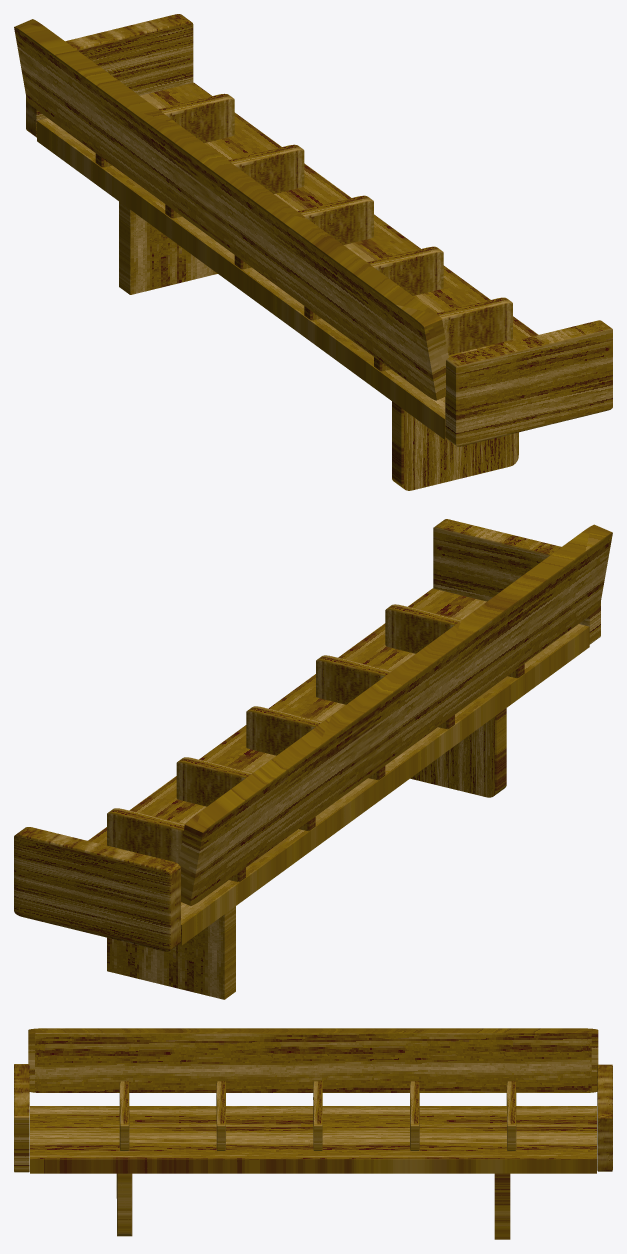
The model's file is bench.glb.
The picture shows the model from 3 angles, top to bottom: view 1: azimuth 30°, elevation 25°; view 2: azimuth 150°, elevation 25°; view 3: azimuth 270°, elevation 25°; orthographic projection. The views are drawn at different scales.
Parts seen in each view (by area): view 1: Cube.013, Cube.006, Cube.011, Cube.009, Cube.002, Cube.003, Cube.012, Cube.007, Cube.008, Cube.010; view 2: Cube.013, Cube.006, Cube.012, Cube.002, Cube.003, Cube.009, Cube.011, Cube.008, Cube.007, Cube.010; view 3: Cube.002, Cube.009, Cube.006, Cube.013, Cube.003, Cube.011, Cube.012, Cube.008, Cube.007, Cube.010.
Boxes of the visible parts, x1,y1,x2,y2 form: Cube.013: (17, 20, 448, 400); Cube.006: (14, 19, 447, 399); Cube.011: (445, 320, 612, 446); Cube.009: (37, 82, 446, 439); Cube.002: (37, 123, 538, 439); Cube.003: (95, 93, 443, 320); Cube.012: (26, 14, 193, 137); Cube.007: (392, 401, 518, 490); Cube.008: (119, 201, 217, 294); Cube.010: (374, 297, 512, 371); Cube.013: (178, 524, 612, 905); Cube.006: (179, 527, 602, 905); Cube.012: (14, 827, 180, 951); Cube.002: (182, 588, 589, 944); Cube.003: (107, 655, 454, 882); Cube.009: (88, 631, 588, 945); Cube.011: (433, 519, 600, 644); Cube.008: (107, 906, 235, 999); Cube.007: (410, 708, 506, 797); Cube.010: (385, 604, 524, 678); Cube.002: (30, 1106, 596, 1173); Cube.009: (30, 1106, 596, 1173); Cube.006: (28, 1028, 598, 1092); Cube.013: (28, 1028, 598, 1092); Cube.003: (216, 1081, 516, 1150); Cube.011: (14, 1064, 29, 1172); Cube.012: (597, 1064, 612, 1171); Cube.008: (494, 1173, 510, 1239); Cube.007: (116, 1173, 132, 1236); Cube.010: (119, 1081, 129, 1150).
Size of the model in its own units: 2.29 by 2.79 by 9.51.
Materials: 2 (2 with a texture image).
